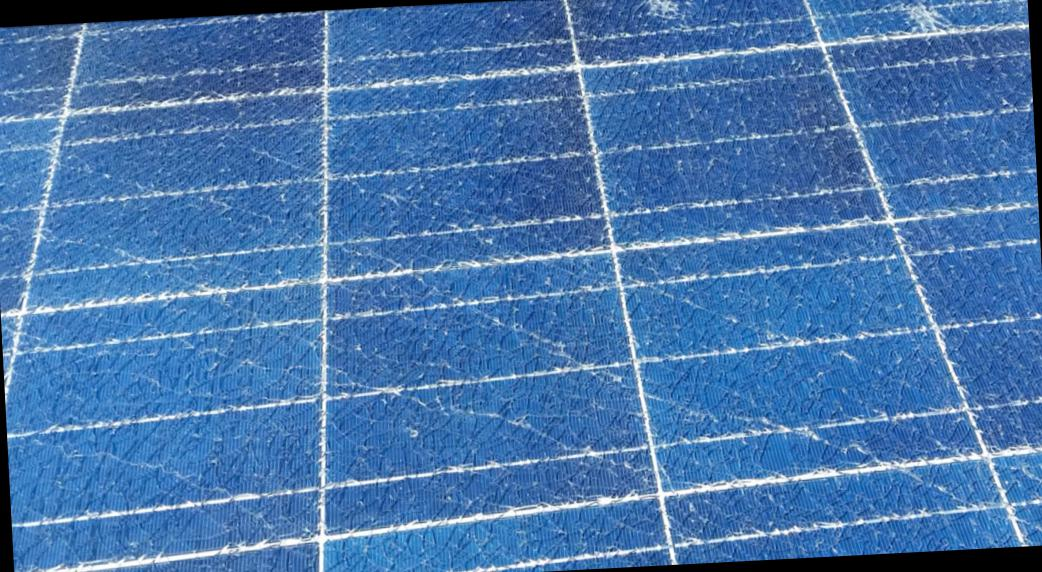Crack: (879, 0, 970, 58), (613, 0, 703, 36)
